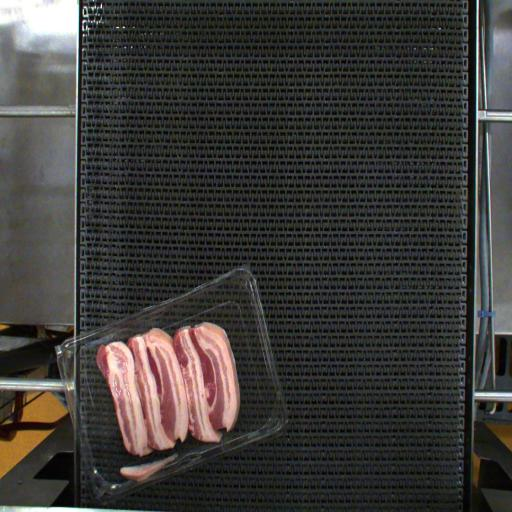loose-meat: (116, 462, 184, 484)
